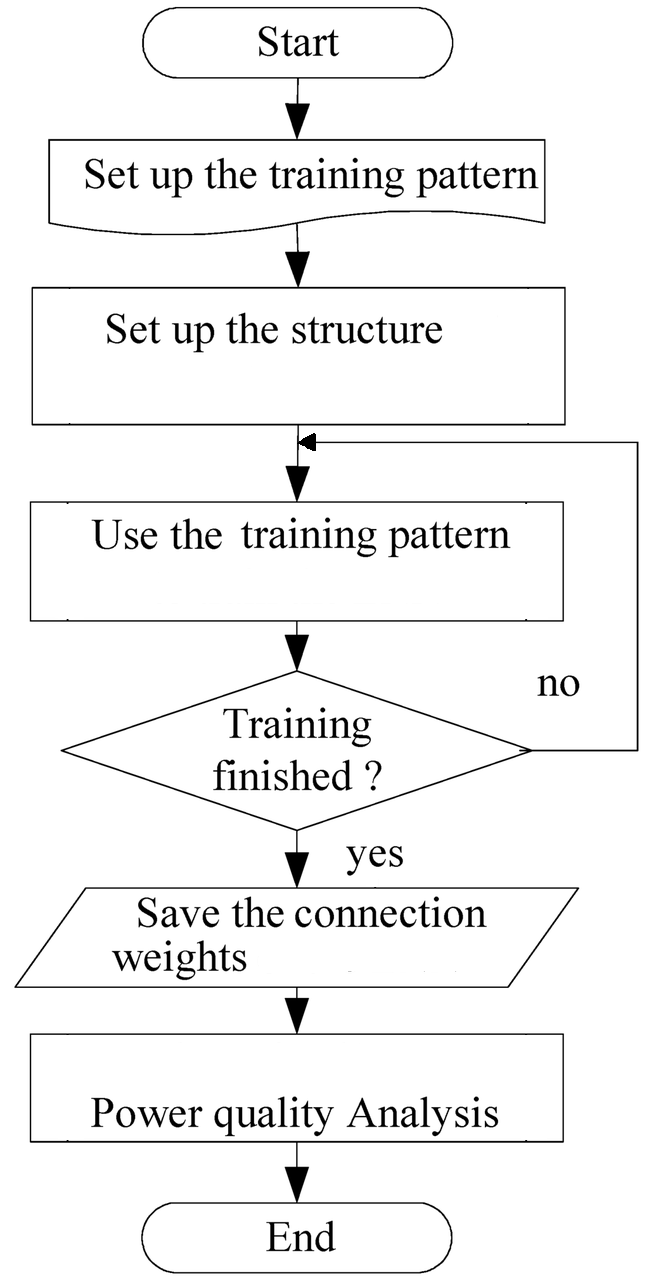arrow: (300, 422, 649, 760), (278, 420, 315, 501), (276, 75, 317, 140), (280, 1143, 317, 1202), (282, 224, 313, 291), (276, 980, 313, 1035), (282, 831, 313, 888), (280, 621, 313, 670)
data: (13, 882, 582, 996)
decision: (55, 668, 535, 833)
process: (21, 281, 572, 434), (23, 493, 572, 631), (25, 1029, 572, 1153), (39, 132, 559, 240)
terminator: (141, 1, 457, 87), (137, 1196, 456, 1280)
text: (110, 892, 492, 984), (70, 150, 545, 205), (92, 509, 513, 568), (88, 1086, 506, 1143), (98, 301, 449, 358), (213, 704, 386, 808), (247, 18, 343, 58), (261, 1215, 341, 1259), (337, 835, 413, 876), (531, 670, 582, 702)
